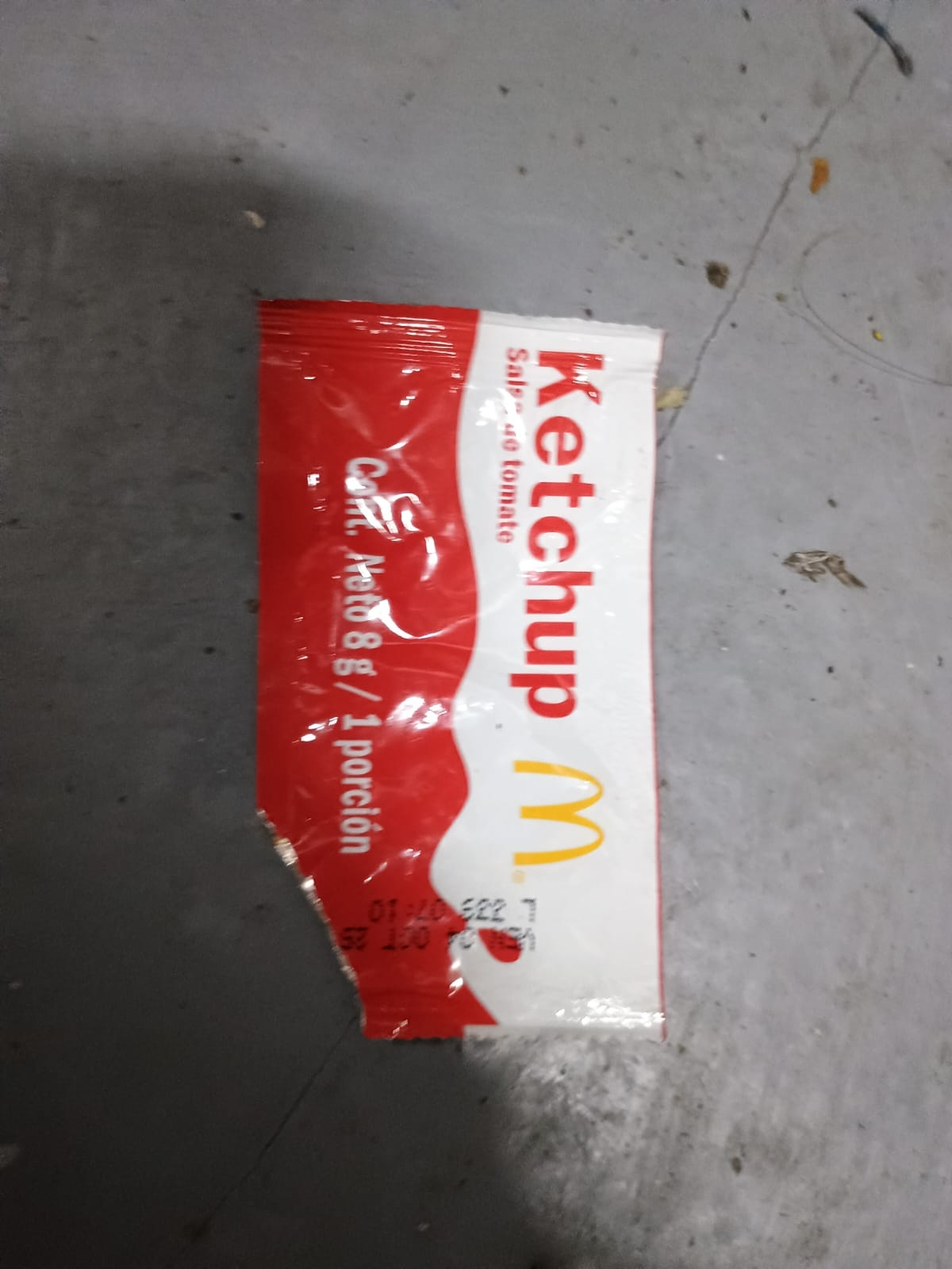Ordinario: (257, 297, 662, 1037)
